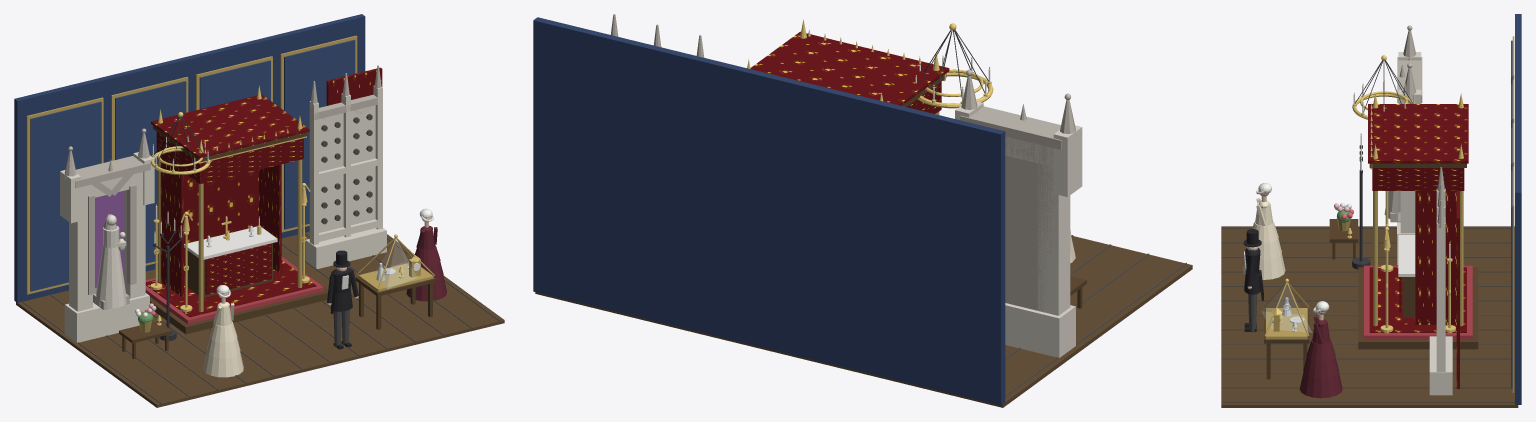
Rendered from scan-fig36-pugin-medieval-court-muse.glb.
The picture shows the model from 3 angles, left to right: view 1: azimuth 30°, elevation 25°; view 2: azimuth 150°, elevation 25°; view 3: azimuth 270°, elevation 25°; orthographic projection. The views are drawn at different scales.
Visible parts, largest first — view 1: FloorSlab, BackWall, WallPanel0, TesterFabricTop, WallPanel3, CanopyBackdrop, WallPanel1, CanopyDropL, PlatformCarpetTop, AltarFrontal, ScreenLBase, WallPanel2 (+43 smaller); view 2: BackWall, FloorSlab, TesterFabricTop, ScreenLBack, ScreenLSideL, ScreenLBase, ScreenLCornice, ScreenLPinBase-0.78, ScreenLTop; view 3: FloorSlab, TesterFabricTop, CanopyDropR, BackWall, PlatformCarpetTop, ValanceR, PlatformStep, PlatformCarpet, ScreenRUpright0.68, ScreenRBase, CaseGlassPyramid, CaseBaseTrim (+31 smaller).
Part boxes in pixels (bbox=[...]): FloorSlab: bbox=[16, 231, 504, 407]; BackWall: bbox=[14, 14, 365, 302]; WallPanel0: bbox=[30, 101, 101, 291]; TesterFabricTop: bbox=[151, 94, 309, 158]; WallPanel3: bbox=[284, 40, 355, 229]; CanopyBackdrop: bbox=[160, 156, 258, 281]; WallPanel1: bbox=[115, 81, 186, 263]; CanopyDropL: bbox=[161, 156, 183, 296]; PlatformCarpetTop: bbox=[145, 260, 316, 317]; AltarFrontal: bbox=[205, 243, 271, 294]; ScreenLBase: bbox=[64, 293, 149, 342]; WallPanel2: bbox=[199, 60, 270, 109]; BackWall: bbox=[533, 17, 1005, 405]; FloorSlab: bbox=[535, 236, 1192, 407]; TesterFabricTop: bbox=[750, 31, 949, 105]; ScreenLBack: bbox=[1005, 137, 1058, 311]; ScreenLSideL: bbox=[1037, 146, 1070, 315]; ScreenLBase: bbox=[1005, 303, 1075, 357]; ScreenLCornice: bbox=[960, 106, 1061, 149]; ScreenLPinBase-0.78: bbox=[1053, 125, 1082, 196]; ScreenLTop: bbox=[1005, 136, 1053, 166]; FloorSlab: bbox=[1221, 226, 1518, 407]; TesterFabricTop: bbox=[1368, 104, 1468, 163]; CanopyDropR: bbox=[1415, 191, 1456, 324]; BackWall: bbox=[1515, 14, 1521, 404]; PlatformCarpetTop: bbox=[1369, 267, 1466, 332]; ValanceR: bbox=[1372, 168, 1463, 190]; PlatformStep: bbox=[1358, 267, 1478, 349]; PlatformCarpet: bbox=[1364, 265, 1472, 339]; ScreenRUpright0.68: bbox=[1436, 221, 1445, 371]; ScreenRBase: bbox=[1429, 336, 1452, 395]; CaseGlassPyramid: bbox=[1261, 285, 1311, 332]; CaseBaseTrim: bbox=[1266, 308, 1307, 339].
Bounding box in the file's own units: 7.46 × 4.36 × 5.26.
48 materials, 1 textured.
